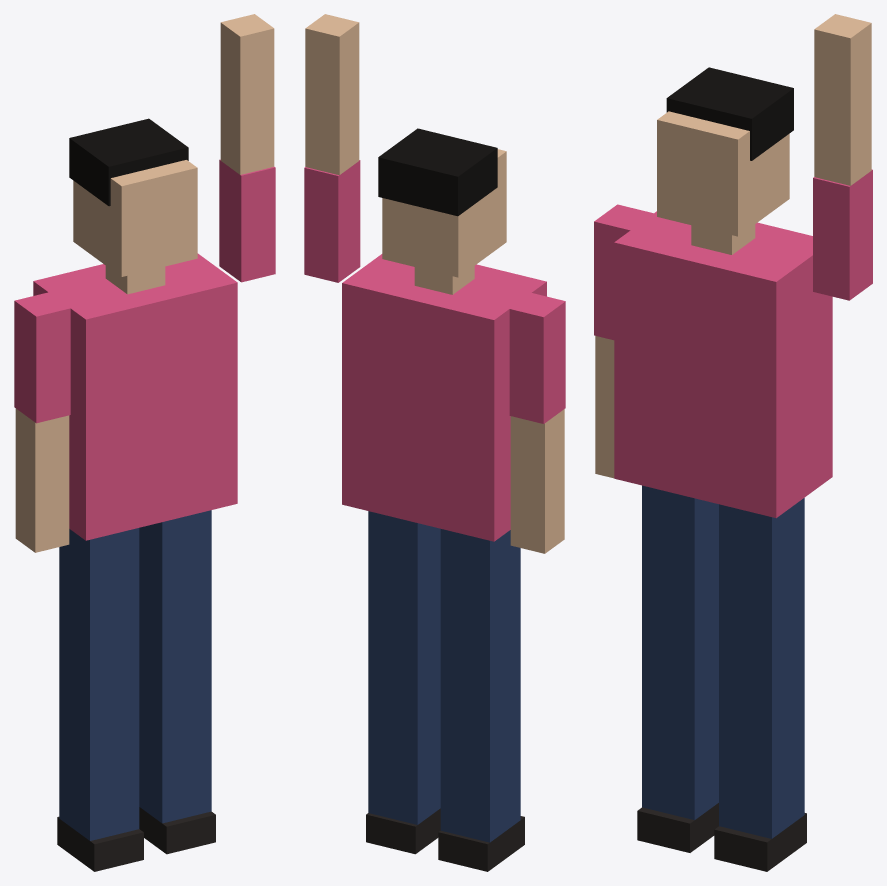
File: fan_k.dae
3 views of the same model, side by side, from view 1: azimuth 30°, elevation 25°; view 2: azimuth 150°, elevation 25°; view 3: azimuth 330°, elevation 25° (orthographic). The views are drawn at different scales.
Visible parts, largest first — view 1: marker; view 2: marker; view 3: marker.
Boxes of the visible parts, x1,y1,x2,y2 form: marker: (14, 14, 275, 871); marker: (304, 14, 565, 871); marker: (594, 14, 872, 871).
Bounding box in the file's own units: 0.63 × 0.24 × 1.99.
